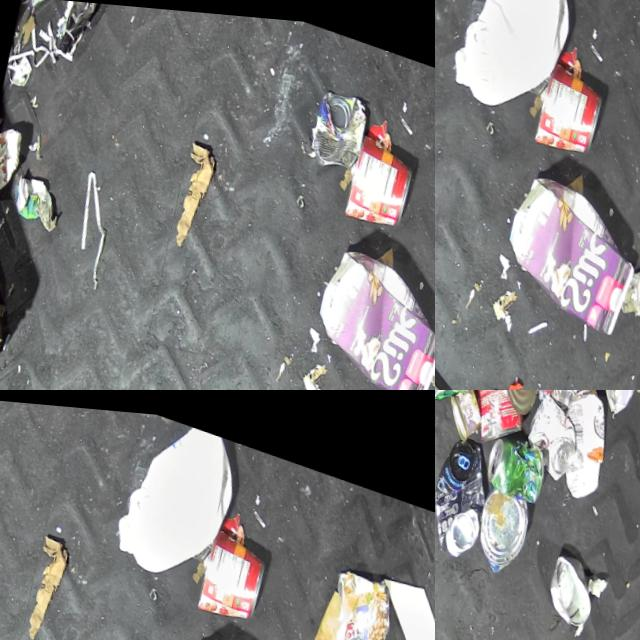can: (182, 500, 278, 624), (335, 123, 419, 228), (525, 50, 609, 155), (435, 425, 498, 558), (298, 74, 373, 172), (461, 478, 533, 574), (510, 390, 583, 477), (473, 420, 546, 498), (532, 543, 597, 626), (448, 390, 543, 446), (435, 390, 486, 437), (0, 114, 26, 206)
milk_jug: (97, 404, 253, 588), (437, 0, 586, 121)
non_white_jug: (486, 155, 640, 331), (296, 228, 435, 390)
